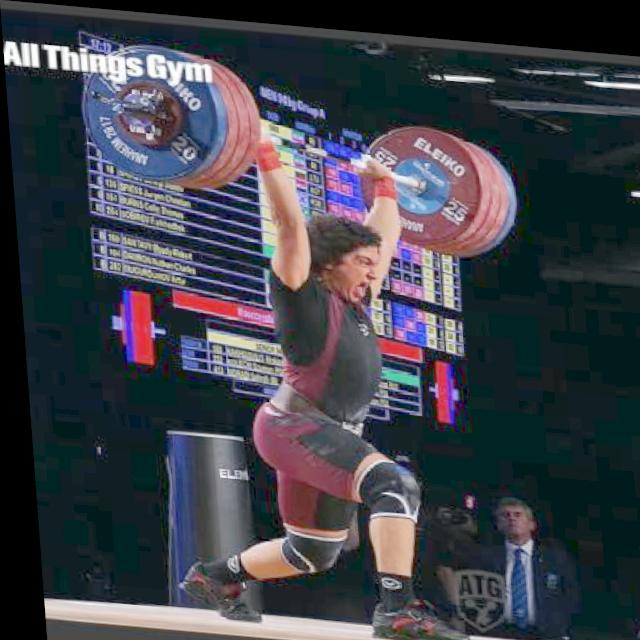barbell: (76, 34, 226, 185)
